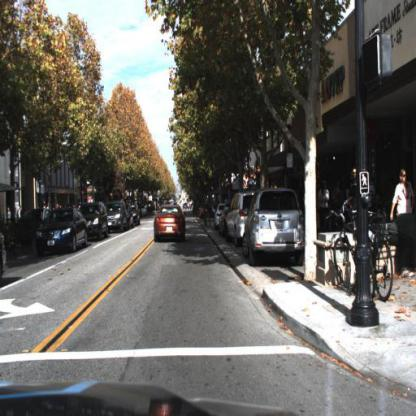car: (242, 187, 302, 263), (36, 207, 90, 258), (154, 203, 185, 245), (88, 201, 111, 242), (108, 202, 128, 236)
pedestrian: (390, 168, 416, 279), (346, 167, 360, 218), (317, 180, 331, 228), (335, 180, 344, 212)
